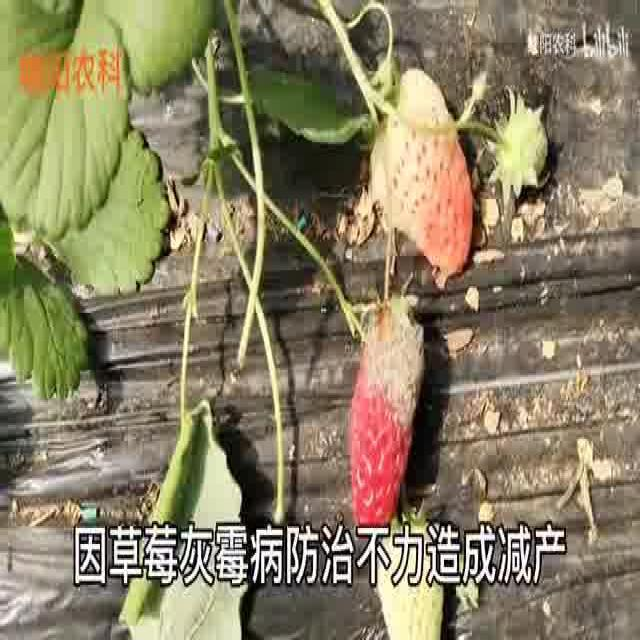Moho gris: (370, 69, 475, 278), (350, 295, 426, 539)
